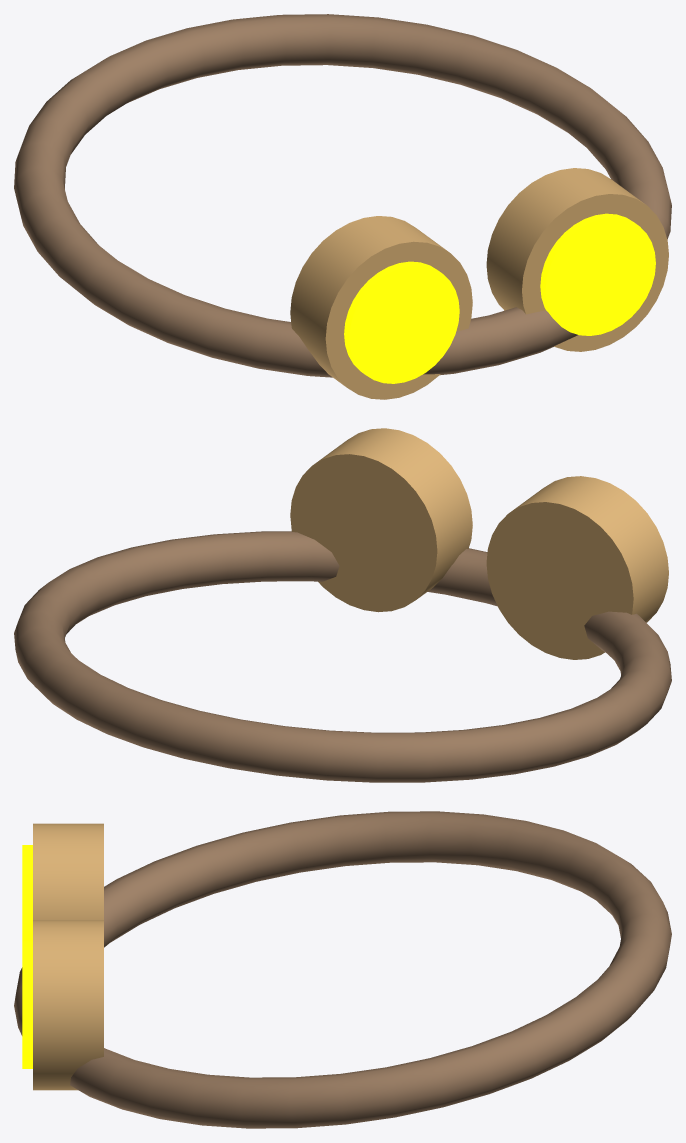
Rendered from singed_goggles.glb.
3 views of the same model, one above another, from view 1: azimuth 30°, elevation 25°; view 2: azimuth 150°, elevation 25°; view 3: azimuth 270°, elevation 25° (orthographic).
Visible parts, largest first — view 1: singed_goggles; view 2: singed_goggles; view 3: singed_goggles.
Boxes of the visible parts, box(x1,y1,x2,y2) form: singed_goggles: box(14, 14, 671, 399); singed_goggles: box(14, 428, 671, 782); singed_goggles: box(14, 811, 671, 1128).
Bounding box in the file's own units: 0.466 × 0.12 × 0.4627.
